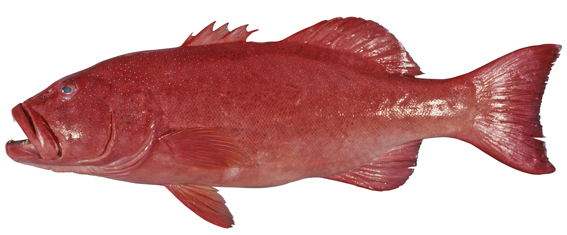fish: (5, 17, 562, 228)
